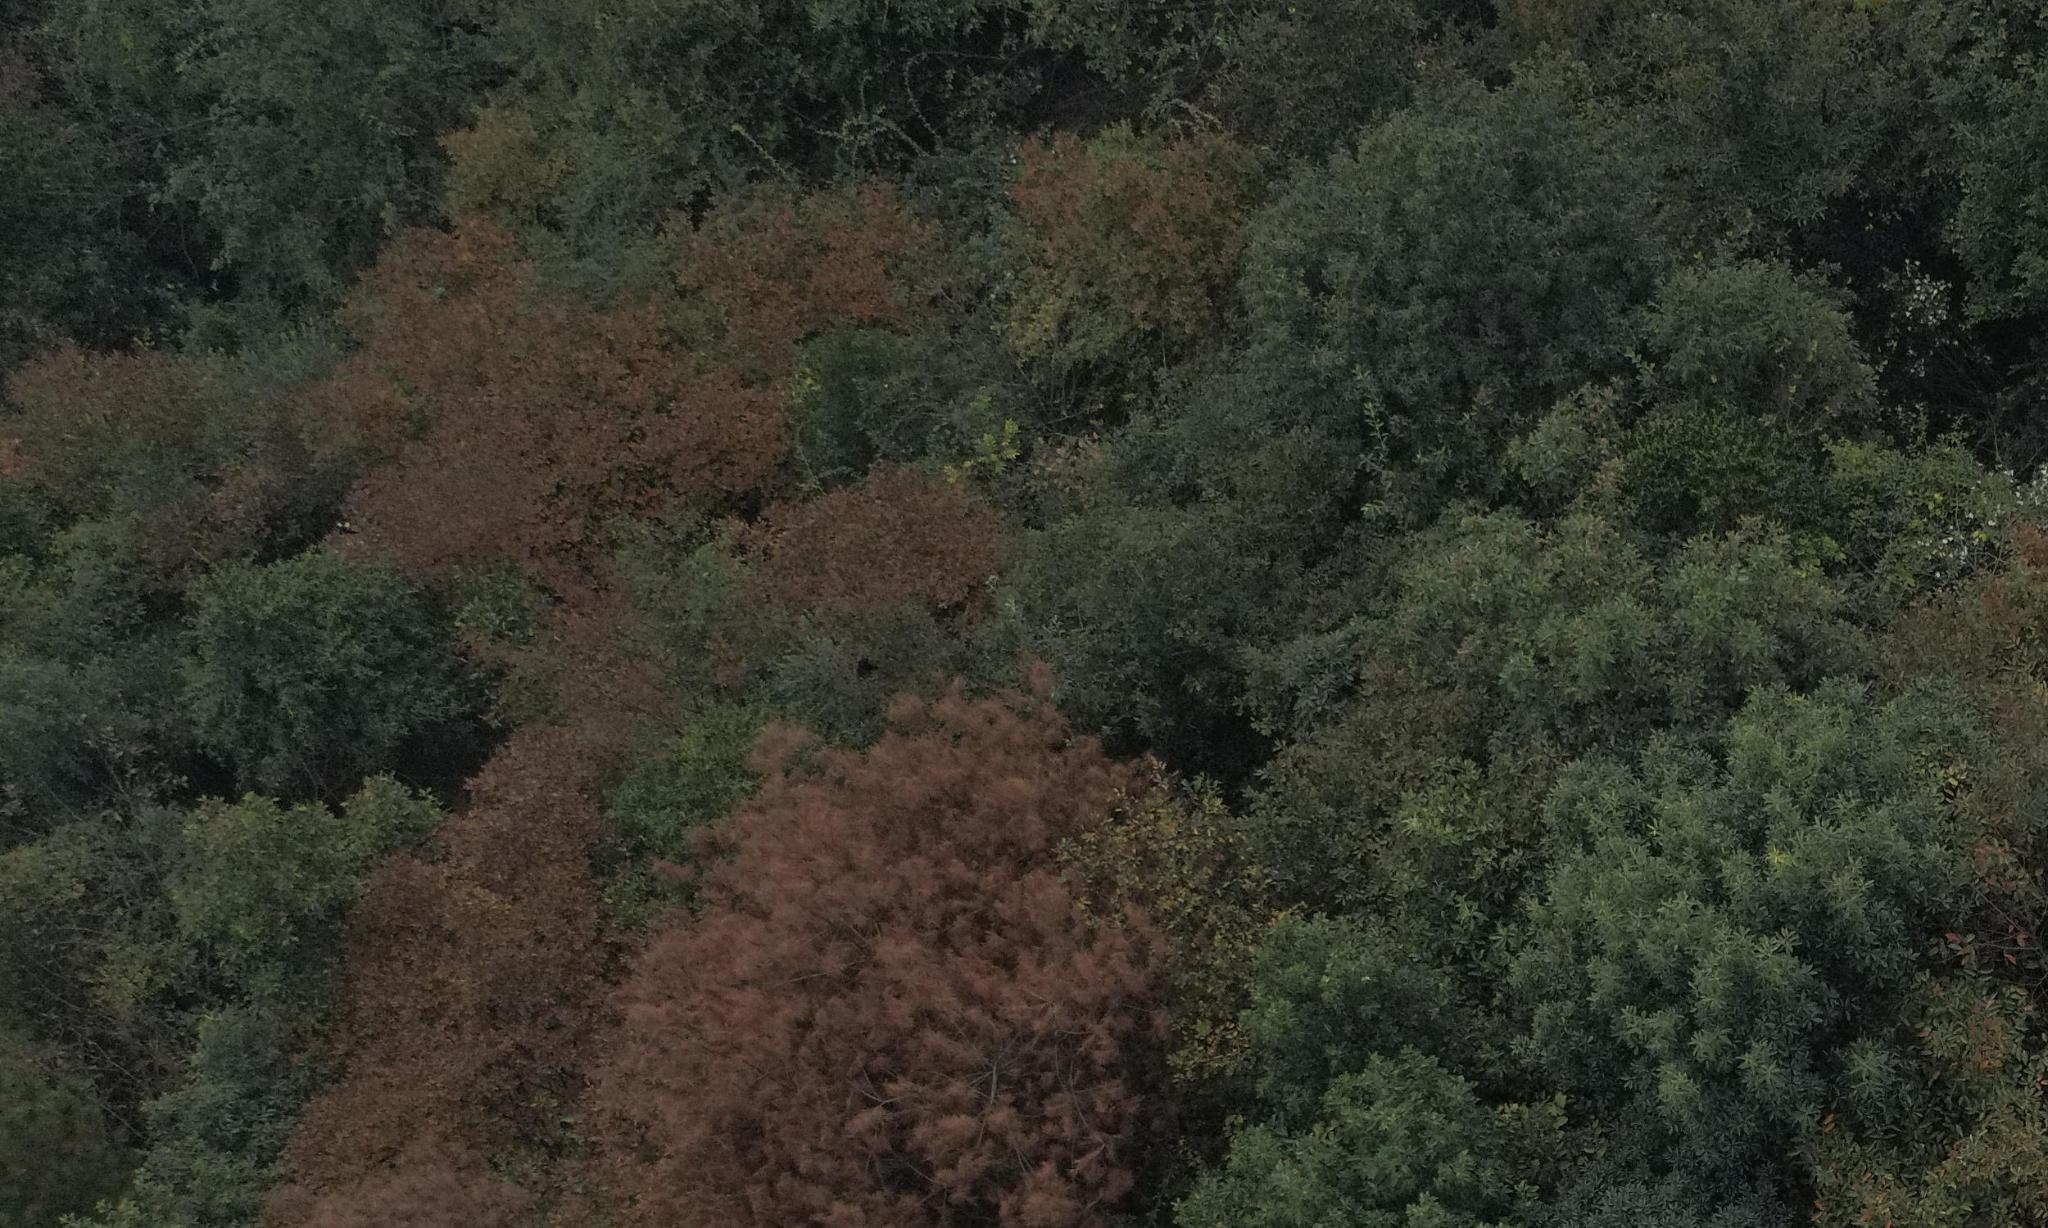heavy: (598, 675, 1143, 1210)
